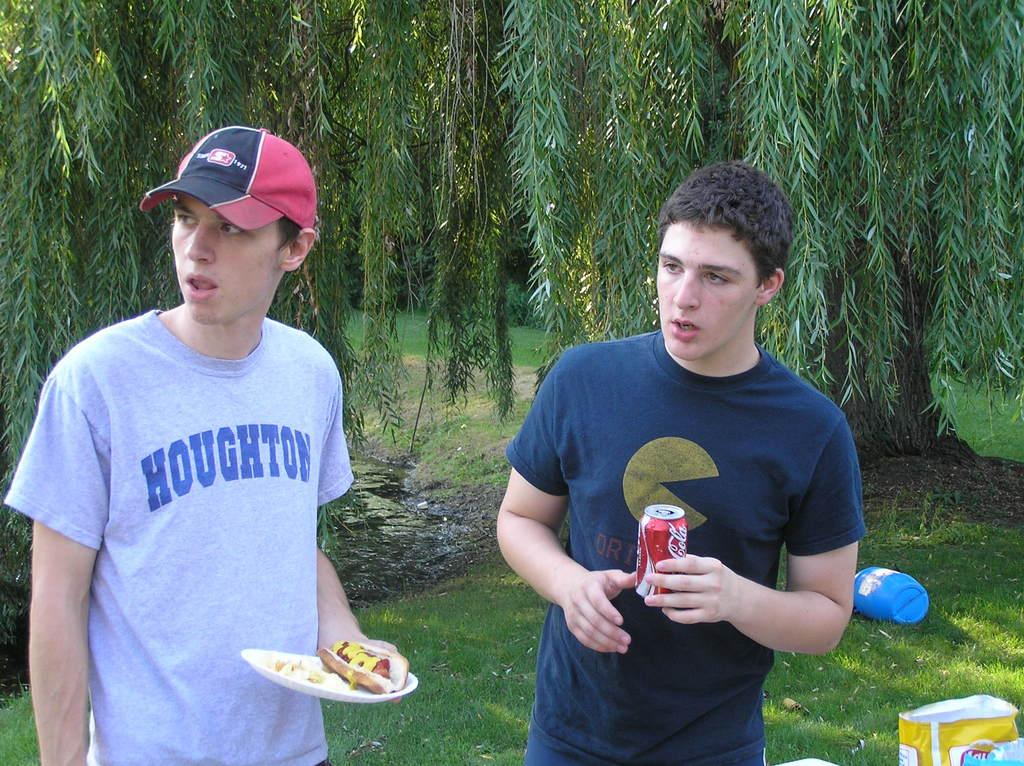Hat: (140, 122, 312, 230)
